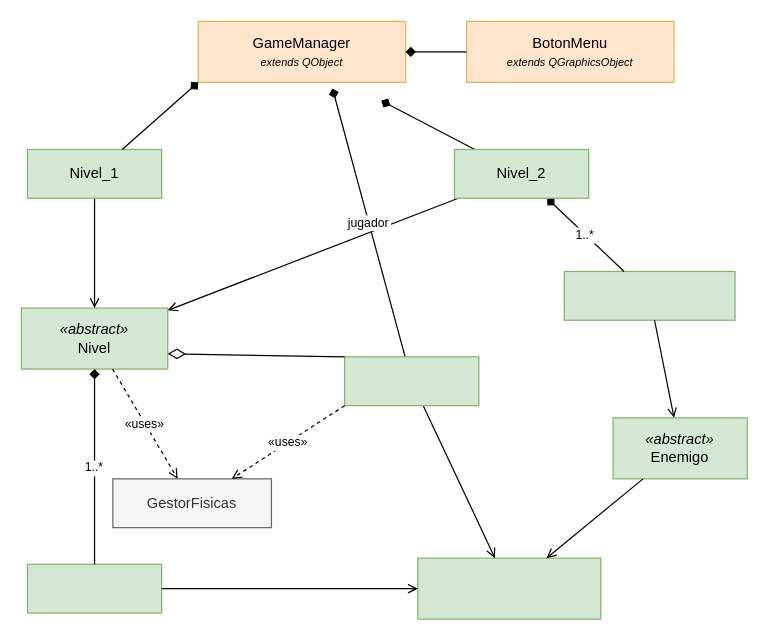
Image size: 769x641. Some labels were removed from this diagram. The shapes that lost their labels are listed below. From the top down, each one's centre as x and y in pixels, then its label:
the point at 649,295: RobotSeguridad
the point at 411,381: Personaje
the point at 94,588: Plataforma
the point at 509,588: «abstract» EntidadJuego
